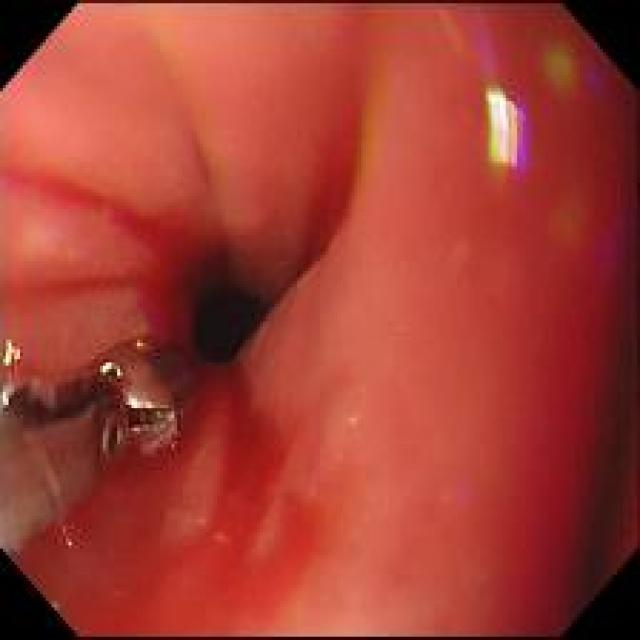color misalignment: (483, 86, 530, 170), (541, 41, 605, 100), (439, 6, 498, 56), (4, 336, 21, 367), (83, 493, 102, 501)
contrast: (184, 261, 294, 366)
instrument: (2, 340, 204, 548)
specularity: (127, 395, 154, 409), (102, 362, 122, 377), (2, 390, 10, 407)
